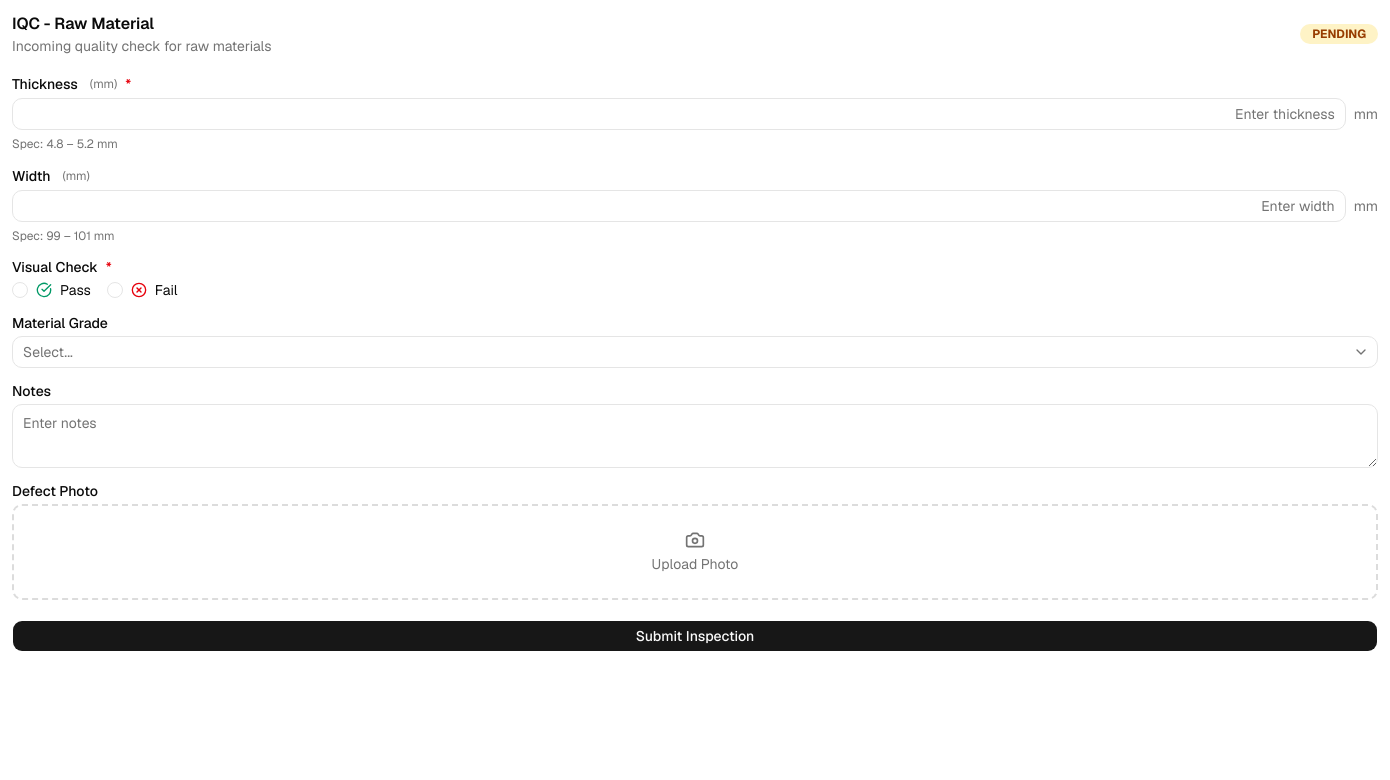
QualityInspectionForm › measurement out-of-spec shows error styling on submit
Type "10" into the field with placeholder "Enter thickness" at (679, 114), box [12,98,1346,130]
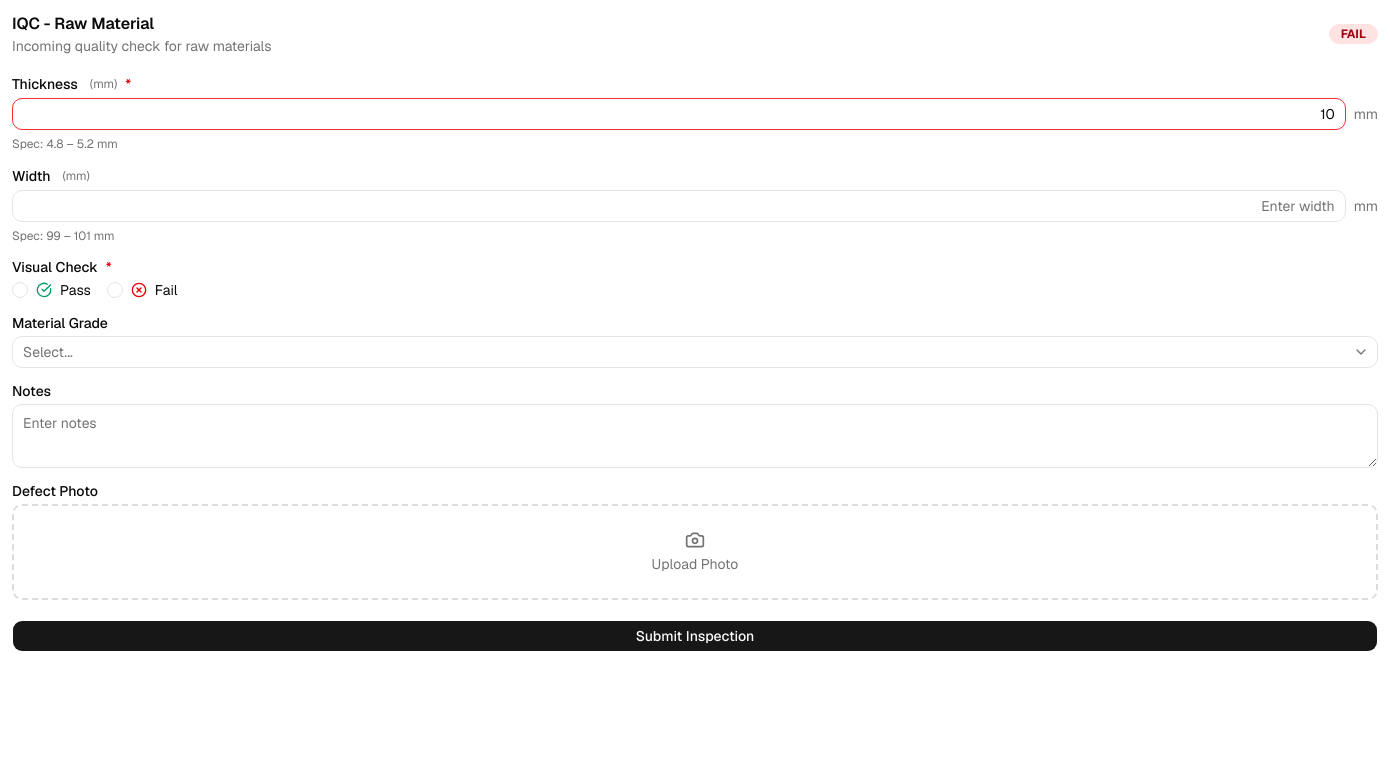
Click the button "Submit Inspection" at (695, 636), box [12,620,1378,652]
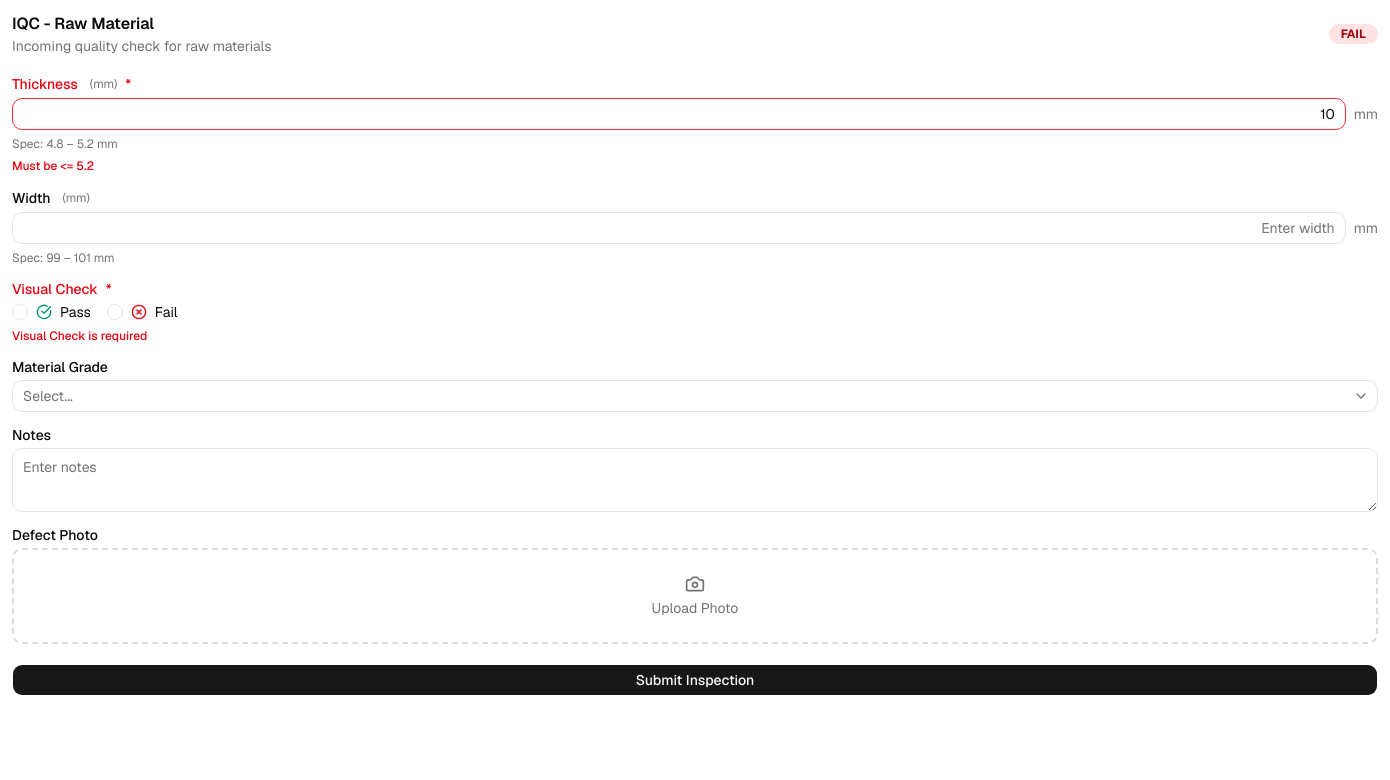
Expected: the text "Must be <= 5.2" is shown, [12,158,94,174]
